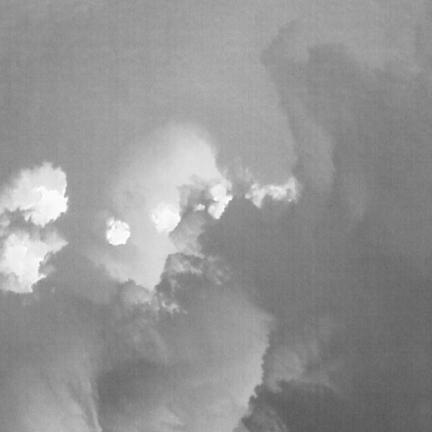flukeprints: (1, 235, 47, 291), (28, 186, 67, 225), (151, 202, 180, 232), (209, 183, 232, 218), (107, 219, 130, 245)
